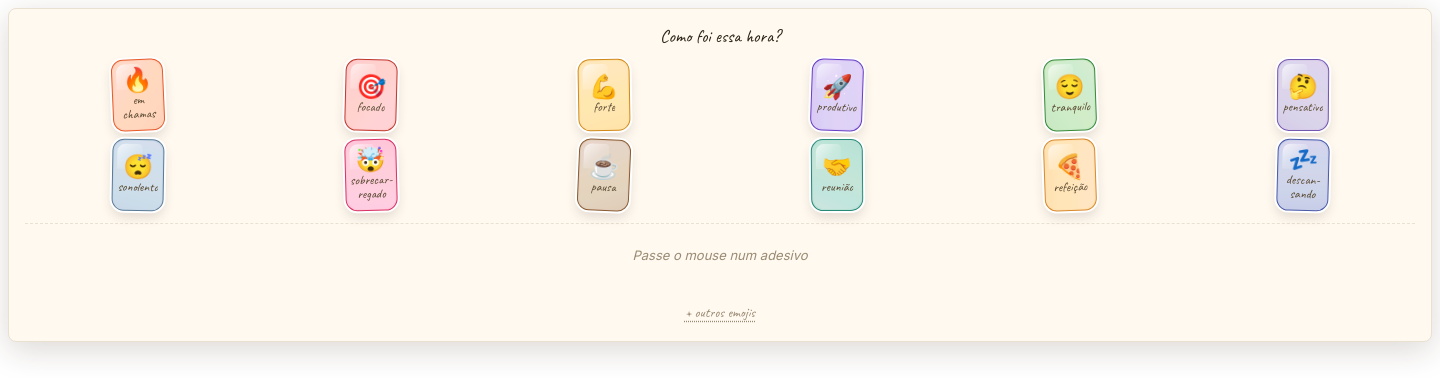
EnergyPalette — descriptions › focus em sticker (teclado) também mostra description
This screenshot has width=1440, height=378.
Click the menu item "🎯 focado": (371, 95) [344,58,398,132]
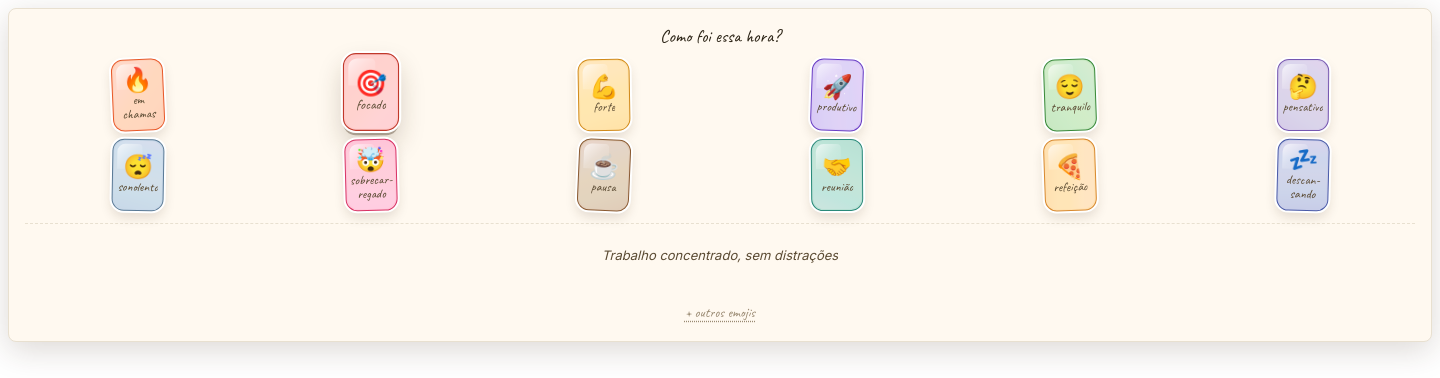
Expected: the text "Trabalho concentrado, sem distrações" is shown, [602,247,838,265]
